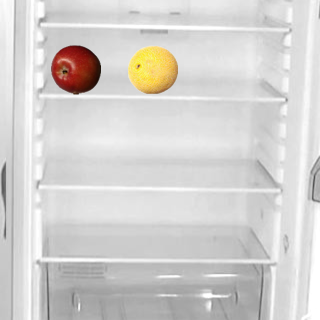Apple Braeburn: (50, 44, 100, 94)
Cantaloupe 1: (127, 44, 177, 94)
